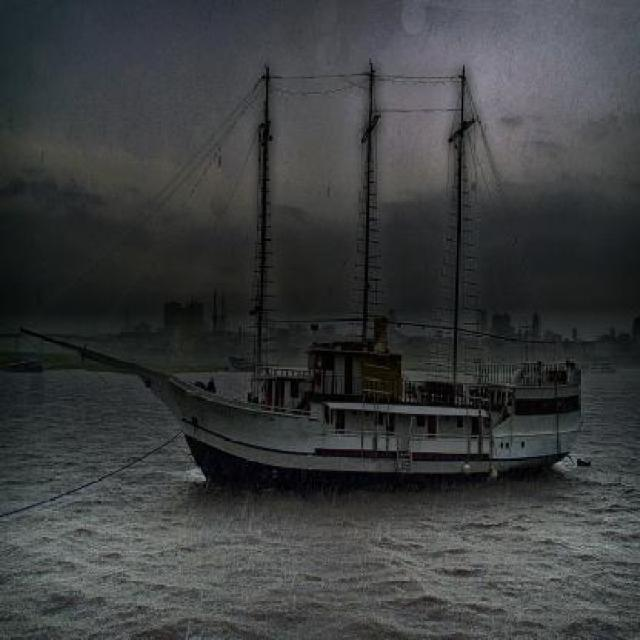ship: (17, 63, 583, 482), (587, 358, 618, 373)
